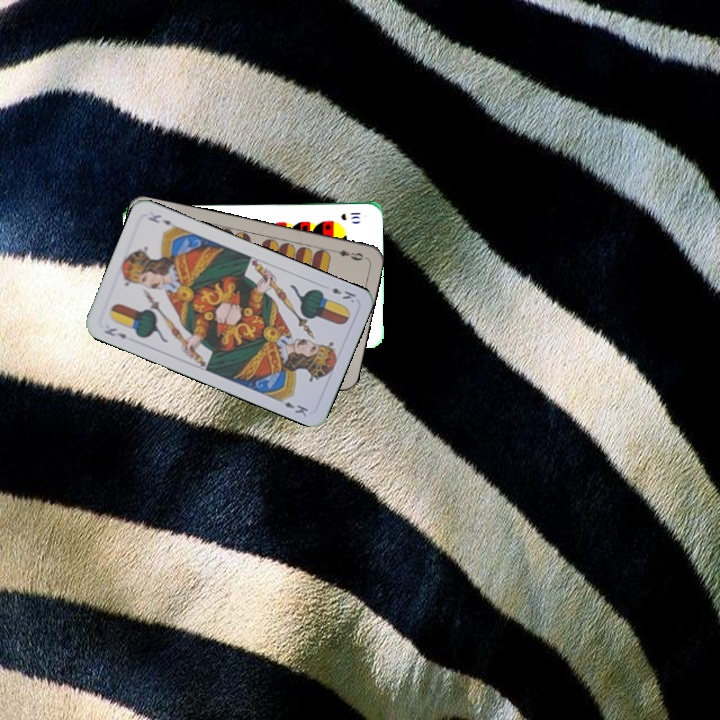E9: (328, 245, 366, 263)
EK: (327, 284, 359, 305), (100, 324, 129, 341)
S10: (337, 208, 363, 223)
